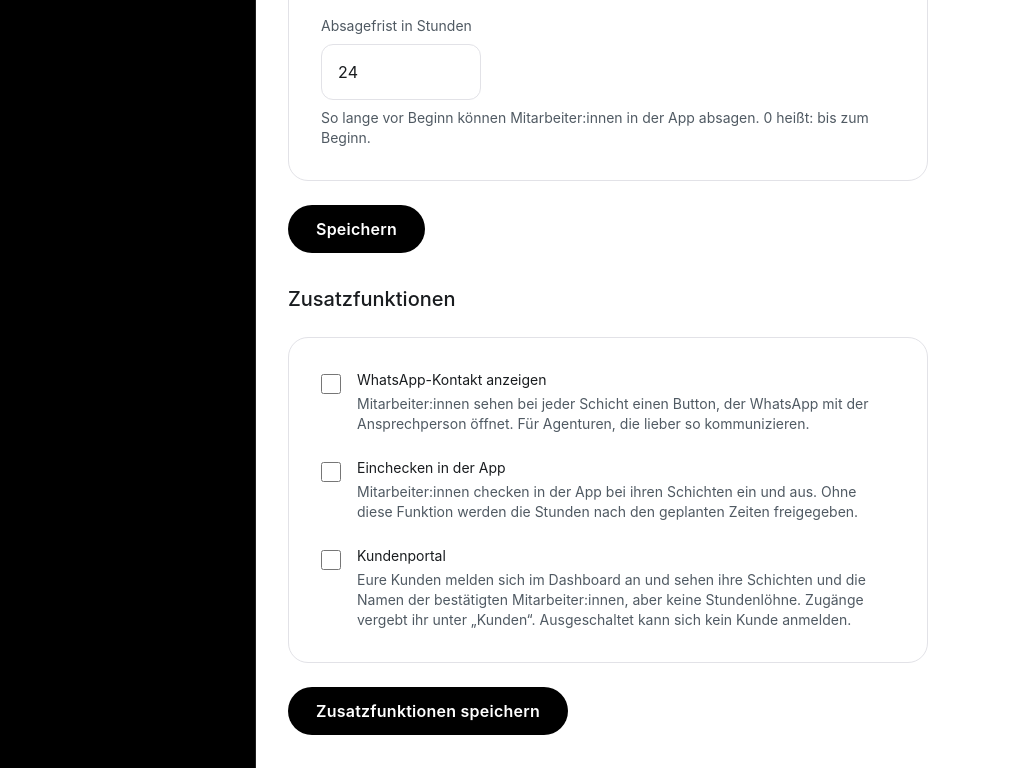
Test: agency settings › lets an admin switch on the WhatsApp contact
(page scrolled)
What coordinates should you click on to do the following:
click the checkbox labelled "WhatsApp-Kontakt anzeigen"
I would click on:
 (331, 384)
Its box is [321,374,341,394].
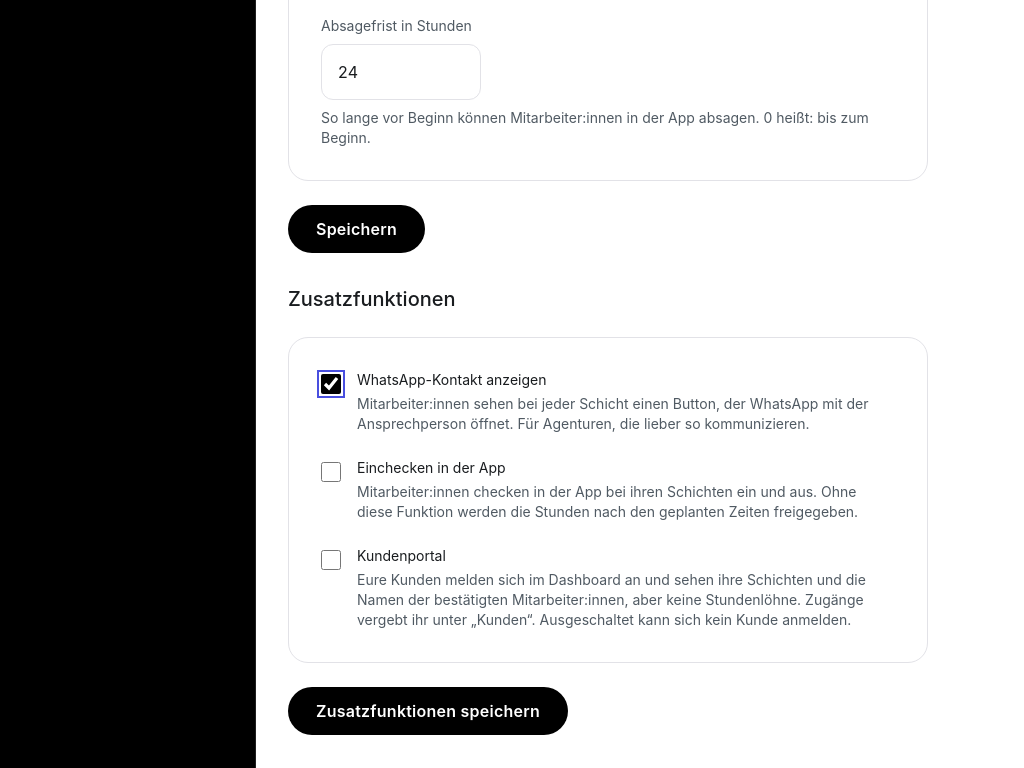
What coordinates should you click on to do the following:
click the button "Zusatzfunktionen speichern"
I would click on:
 (428, 711)
Its box is [288,687,568,735].
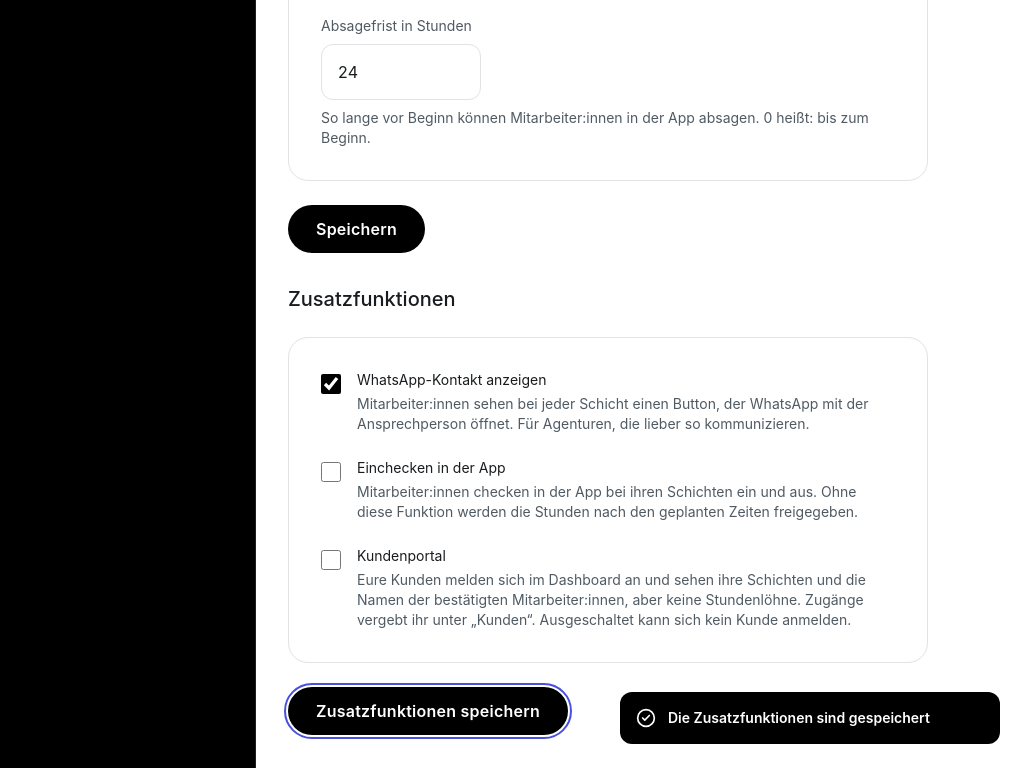
Result: the text "Die Zusatzfunktionen sind gespeichert" is shown at [668,708,930,728]
